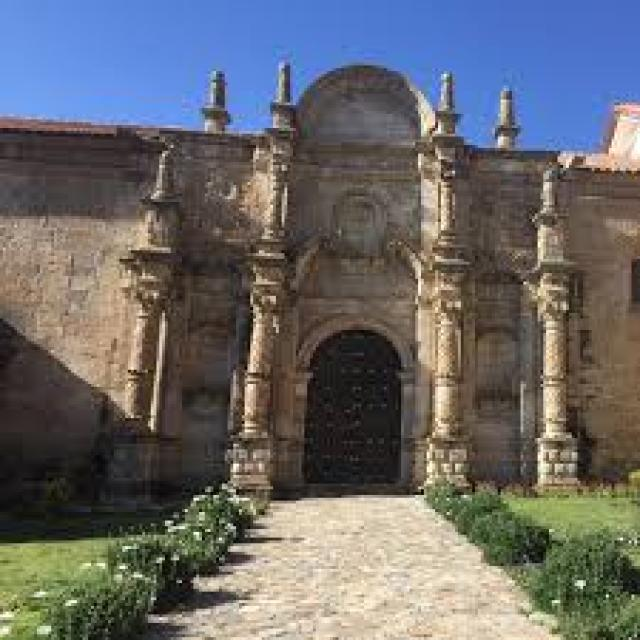CUPULA: (0, 13, 637, 556)
SIMETRIA COLONIAL: (260, 258, 446, 500)
colonial-architecture-: (0, 31, 640, 504)
